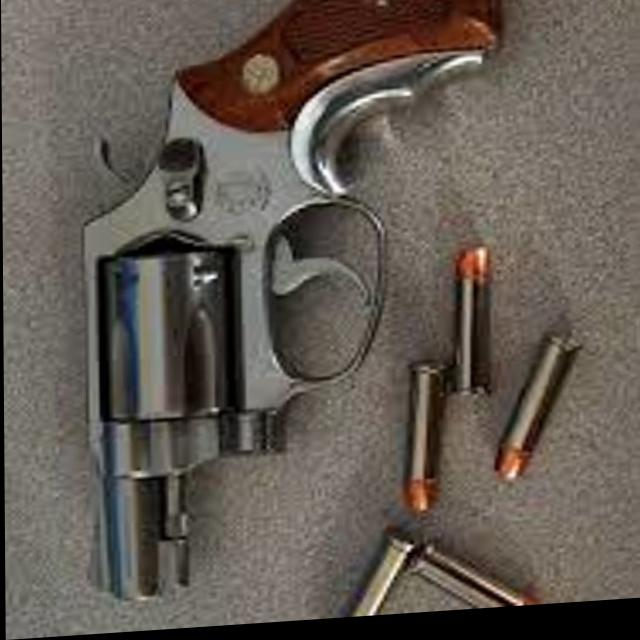handgun: (80, 0, 497, 605)
